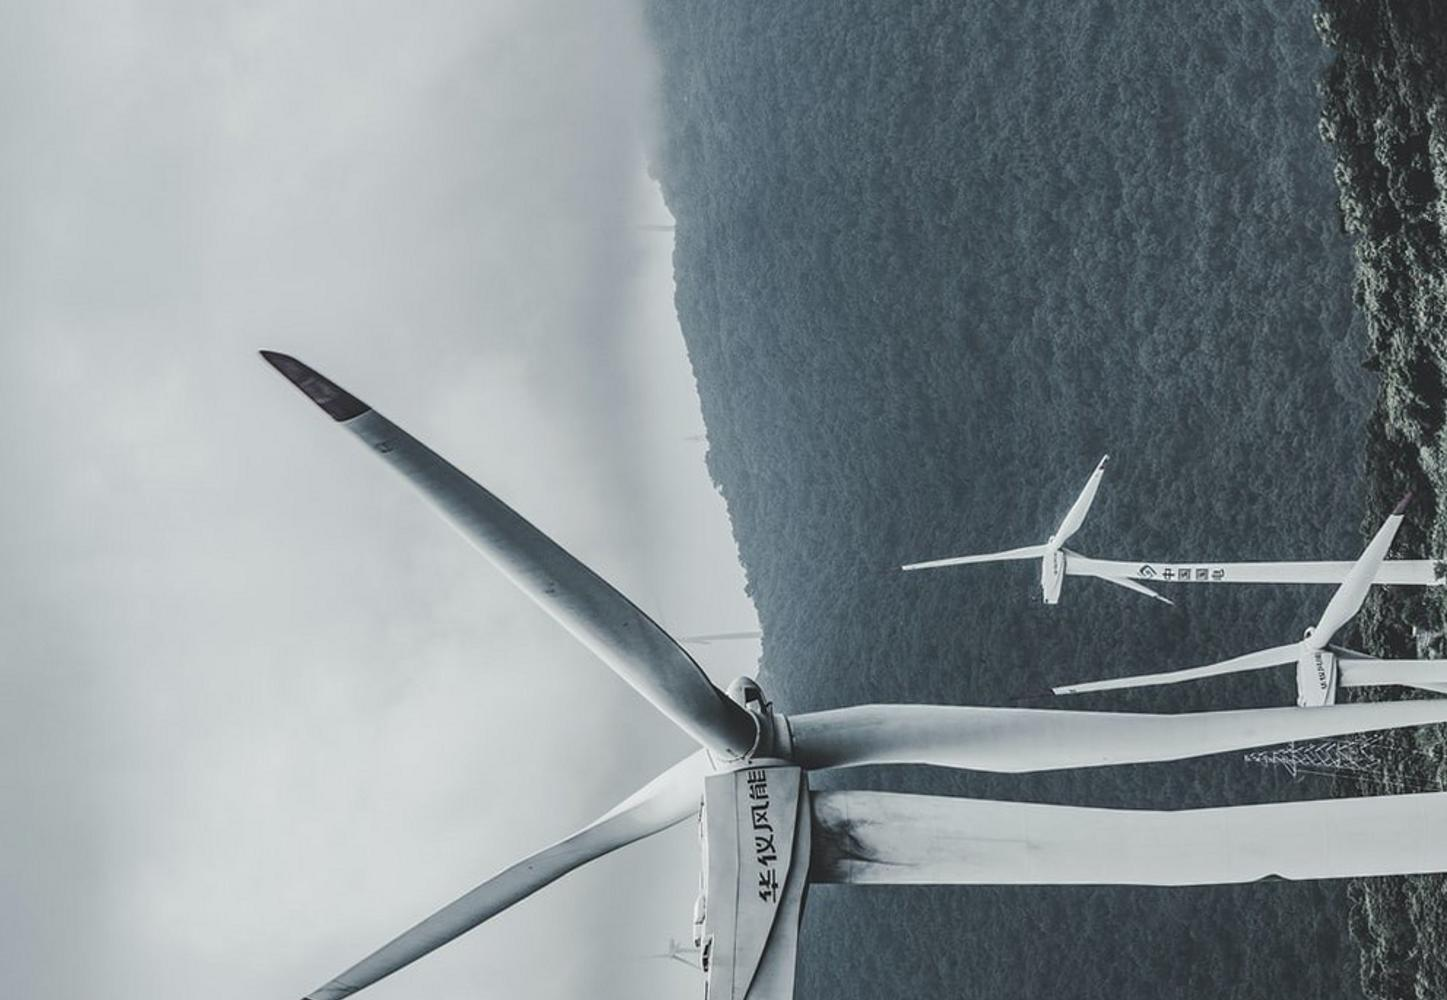faulty: (542, 697, 935, 914)
